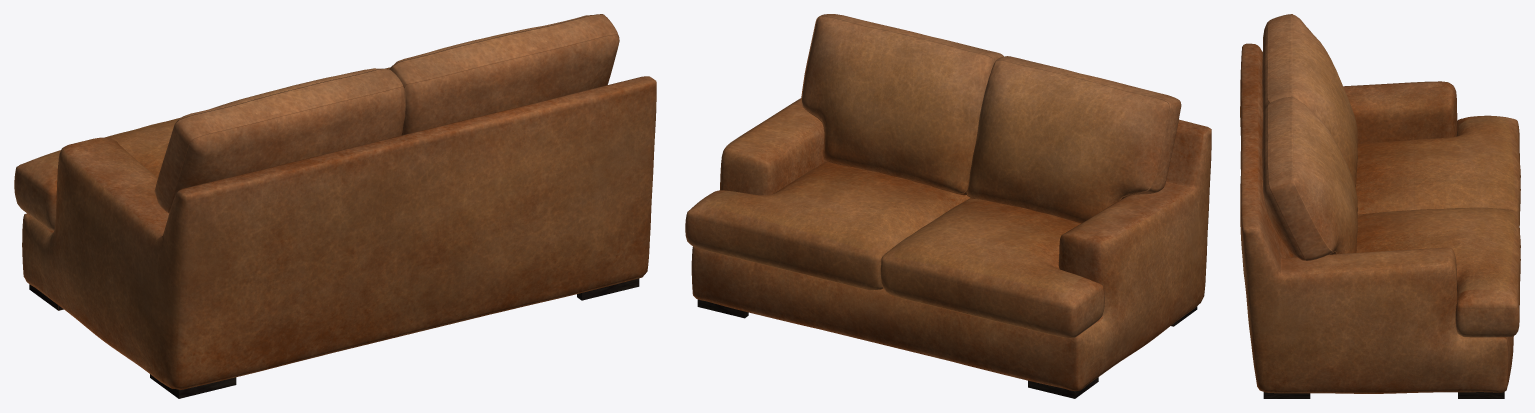
File: abo_B07P8STHQ1.glb
The picture shows the model from 3 angles, left to right: view 1: azimuth 30°, elevation 25°; view 2: azimuth 150°, elevation 25°; view 3: azimuth 270°, elevation 25°; orthographic projection. The views are drawn at different scales.
Visible parts, largest first — view 1: RootNode; view 2: RootNode; view 3: RootNode.
Part boxes in pixels (x1,y1,x2,y2): RootNode: (14, 14, 656, 398); RootNode: (685, 14, 1211, 398); RootNode: (1240, 14, 1520, 398).
Bounding box in the file's own units: 1.88 × 0.9659 × 1.14.
Materials: 1 (1 with a texture image).
